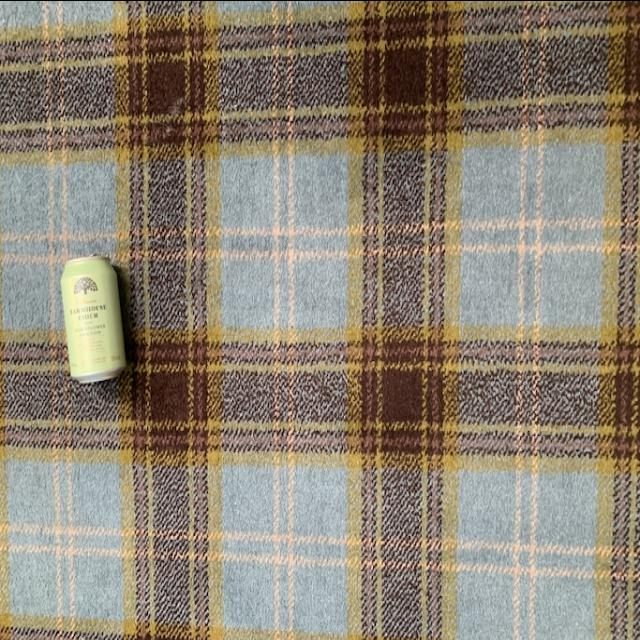Aluminum Can: (62, 254, 124, 390)
